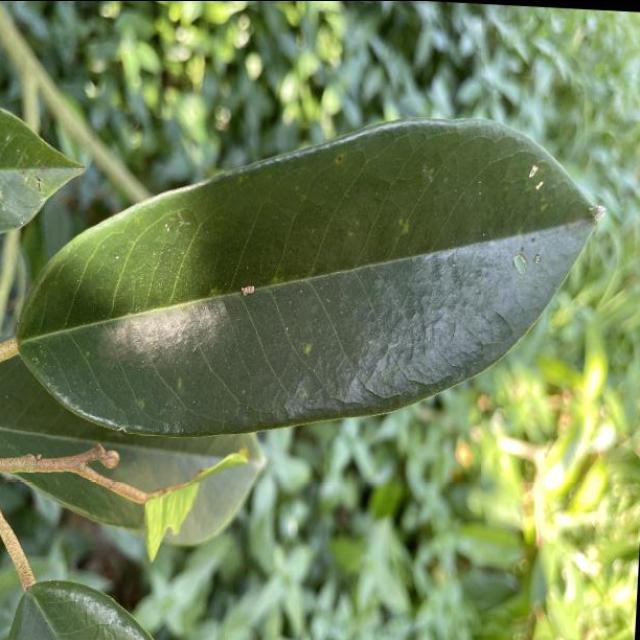No Disease: (0, 80, 616, 472)
